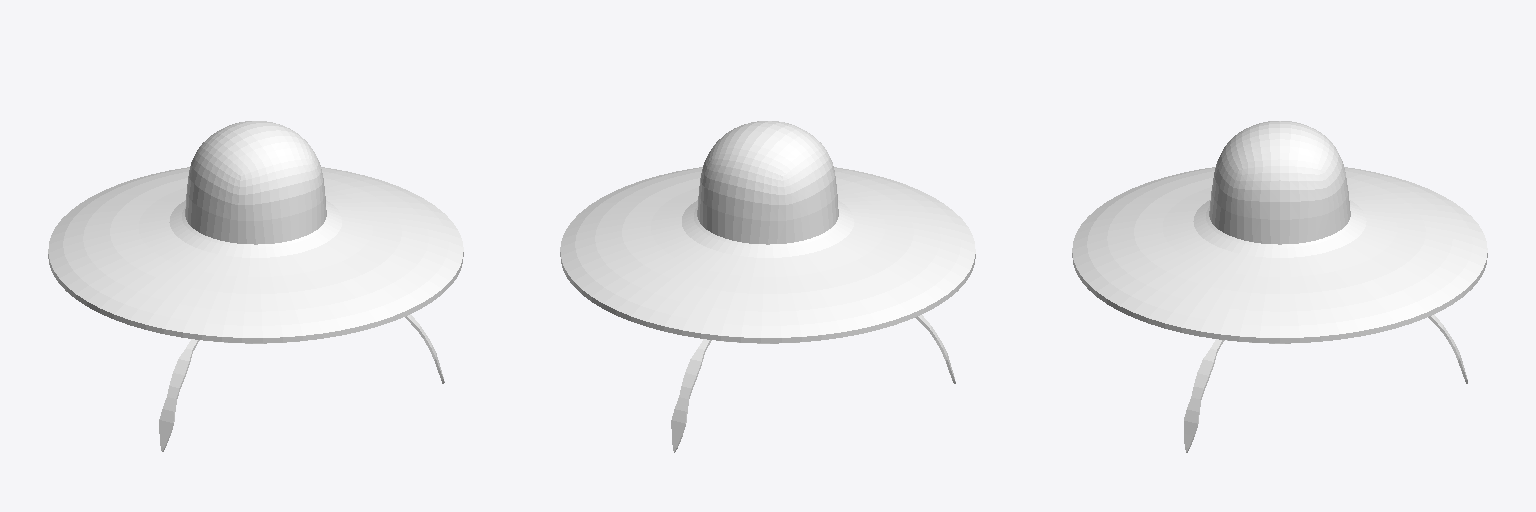
Rendered from UFO.obj.
3 views of the same model, side by side, from view 1: azimuth 30°, elevation 25°; view 2: azimuth 150°, elevation 25°; view 3: azimuth 270°, elevation 25° (orthographic).
Visible parts, largest first — view 1: UFO; view 2: UFO; view 3: UFO.
Part boxes in pixels (x1,y1,x2,y2): UFO: (48, 121, 463, 451); UFO: (560, 121, 975, 452); UFO: (1072, 121, 1487, 452).
Size of the model in its own units: 64.21 by 43.76 by 64.21.